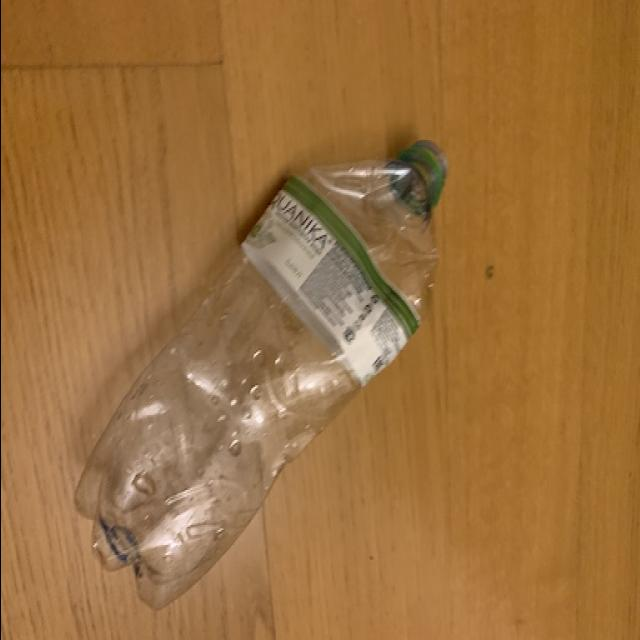litter: (65, 135, 454, 615)
